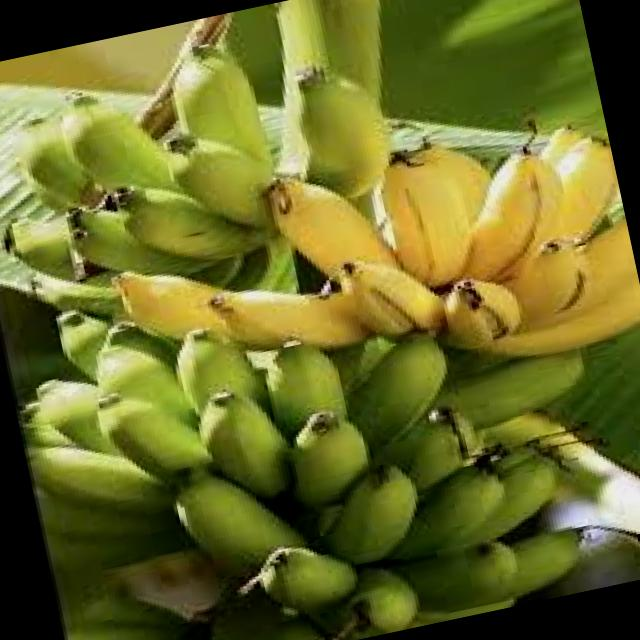Banana: (0, 211, 632, 640), (106, 110, 640, 439), (0, 11, 405, 309)
